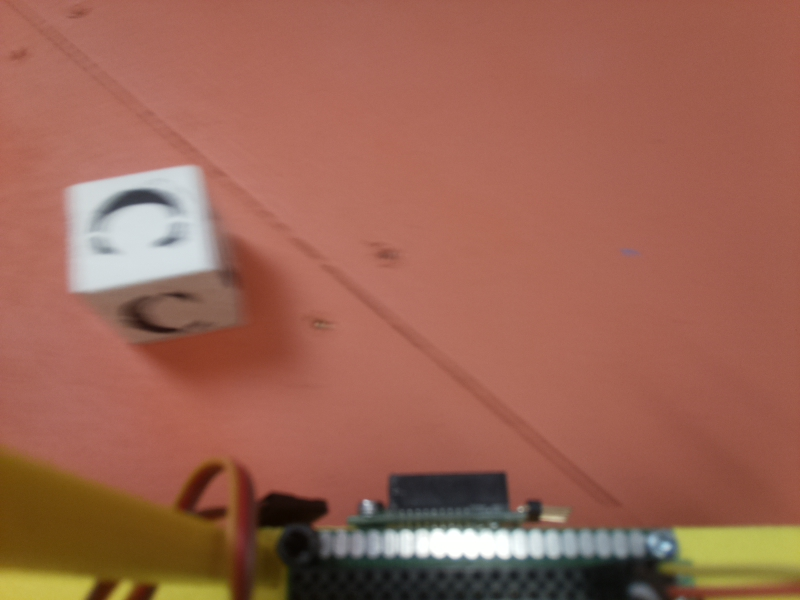blockC: (57, 164, 241, 354)
